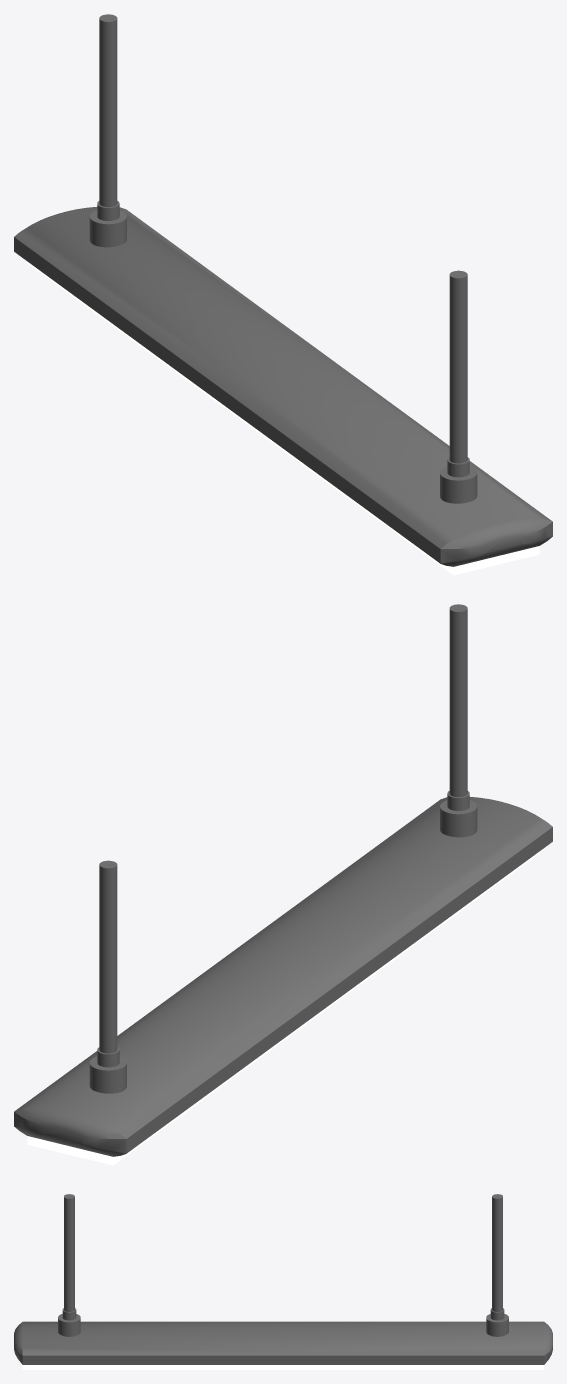
The model's file is Celing Lights.fbx.
3 renders of one model, top to bottom at view 1: azimuth 30°, elevation 25°; view 2: azimuth 150°, elevation 25°; view 3: azimuth 270°, elevation 25°, orthographic. The views are drawn at different scales.
Parts seen in each view (by area): view 1: Cylinder; view 2: Cylinder; view 3: Cylinder.
Part boxes in pixels (x1,y1,x2,y2): Cylinder: (14,14,552,575); Cylinder: (14,604,552,1165); Cylinder: (14,1194,552,1369).
Size of the model in its own units: 1.85 by 4.28 by 12.54.
